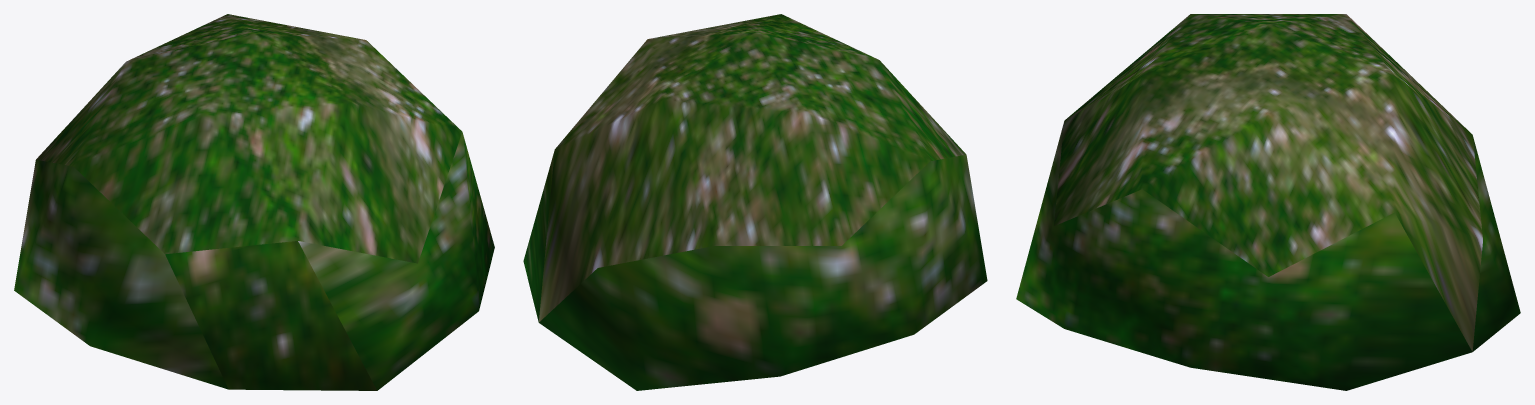
File: CandyGumDropGreen.fbx
3 renders of one model, left to right at view 1: azimuth 30°, elevation 25°; view 2: azimuth 150°, elevation 25°; view 3: azimuth 270°, elevation 25°, orthographic. The views are drawn at different scales.
Parts seen in each view (by area): view 1: Icosphere.001; view 2: Icosphere.001; view 3: Icosphere.001.
Part boxes in pixels (bbox=[...]): Icosphere.001: bbox=[14, 14, 494, 390]; Icosphere.001: bbox=[523, 14, 987, 390]; Icosphere.001: bbox=[1016, 14, 1520, 390].
Bounding box in the file's own units: 190 × 131 × 200.
